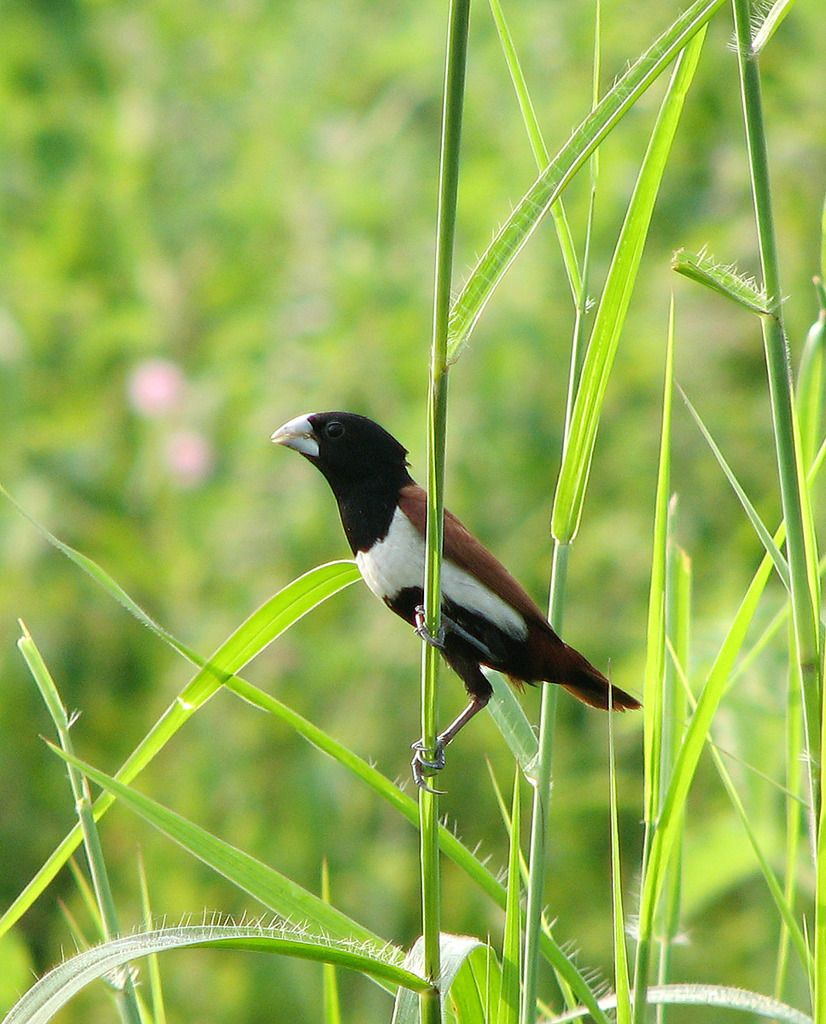Bird: (269, 410, 645, 795)
